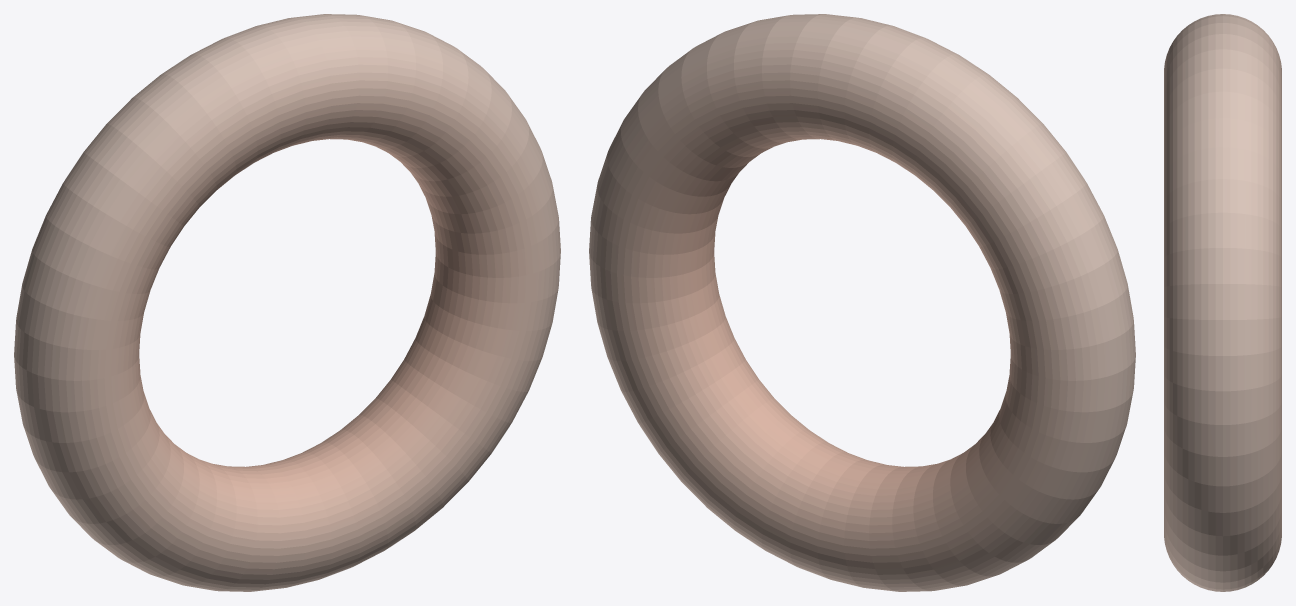
3 views of the same model, side by side, from view 1: azimuth 30°, elevation 25°; view 2: azimuth 150°, elevation 25°; view 3: azimuth 270°, elevation 25° (orthographic). The views are drawn at different scales.
Parts seen in each view (by area): view 1: world; view 2: world; view 3: world.
Boxes of the visible parts, bbox=[...] form: world: bbox=[14, 14, 560, 591]; world: bbox=[589, 14, 1135, 591]; world: bbox=[1164, 14, 1281, 591].
Bounding box in the file's own units: 29.33 × 29.28 × 5.99.
